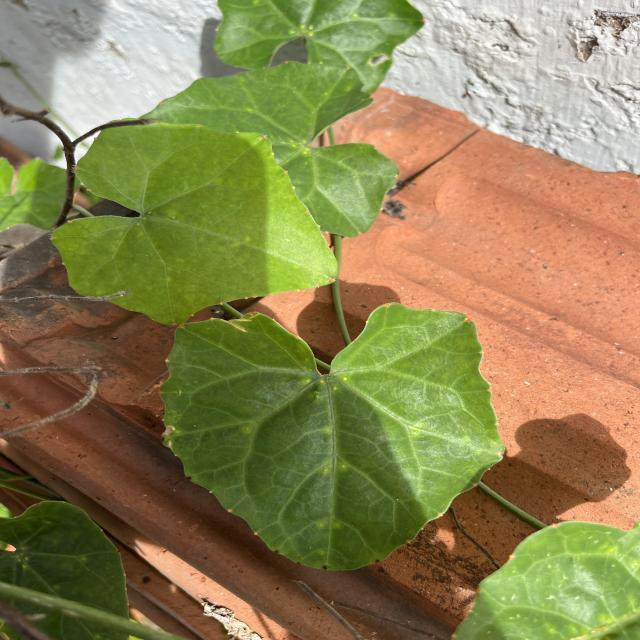Coccinia grandis: (156, 300, 508, 574), (49, 115, 341, 328)
